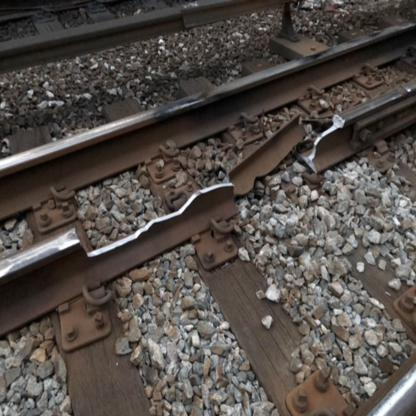Defective 2: (37, 96, 402, 288)
